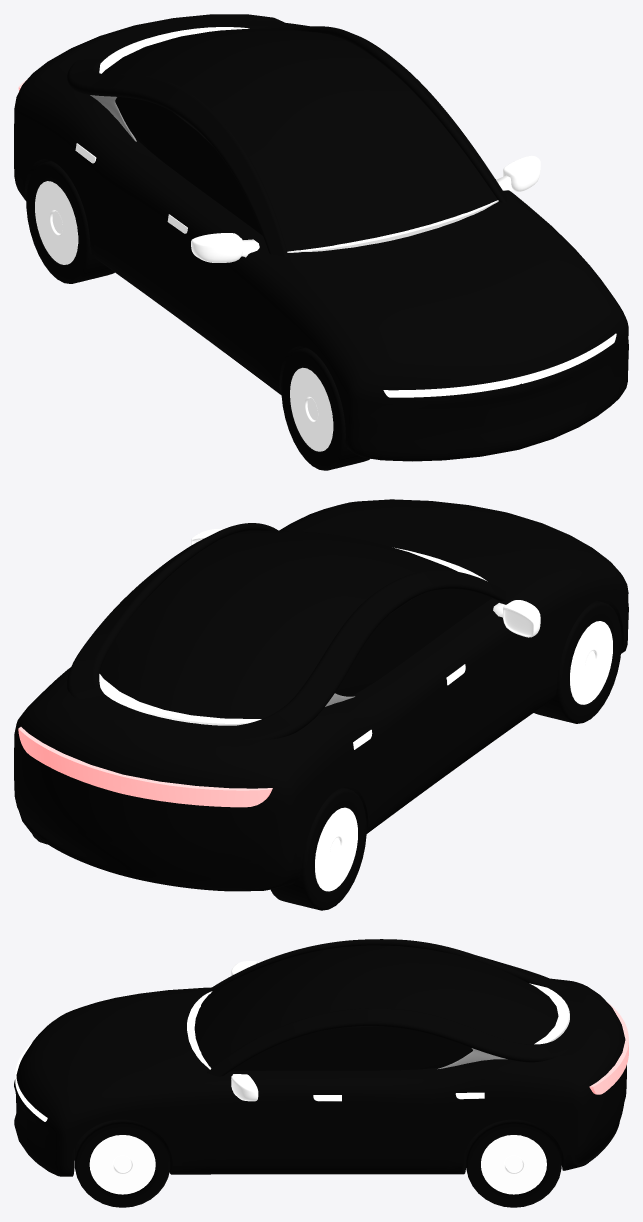
File: uberBlack.dae.glb
3 renders of one model, top to bottom at view 1: azimuth 30°, elevation 25°; view 2: azimuth 150°, elevation 25°; view 3: azimuth 270°, elevation 25°, orthographic. The views are drawn at different scales.
Visible parts, largest first — view 1: Node3, Node8, Node15, Node11, Node9, Node10, Node14, Node2, Node1; view 2: Node3, Node8, Node4, Node6, Node15, Node11, Node14, Node10, Node2, Node9; view 3: Node3, Node8, Node17, Node13, Node12, Node16, Node2, Node6, Node9, Node4, Node7, Node5.
Boxes of the visible parts, x1,y1,x2,y2 form: Node3: (14, 14, 628, 461); Node8: (102, 28, 497, 251); Node15: (26, 161, 114, 283); Node11: (281, 347, 370, 470); Node9: (191, 155, 540, 262); Node10: (290, 367, 333, 451); Node14: (35, 181, 78, 264); Node2: (99, 27, 498, 252); Node1: (383, 333, 616, 397); Node3: (14, 499, 628, 890); Node8: (99, 530, 491, 718); Node4: (35, 817, 255, 891); Node6: (18, 727, 272, 807); Node15: (271, 787, 366, 910); Node11: (534, 601, 621, 723); Node14: (315, 807, 357, 891); Node10: (570, 621, 612, 704); Node2: (99, 547, 487, 725); Node9: (191, 529, 540, 637); Node3: (14, 939, 626, 1176); Node8: (194, 945, 558, 1071); Node17: (466, 1119, 561, 1207); Node13: (75, 1119, 170, 1207); Node12: (89, 1135, 155, 1194); Node16: (481, 1135, 546, 1194); Node2: (187, 983, 569, 1069); Node6: (589, 1001, 628, 1094); Node9: (231, 961, 258, 1101); Node4: (588, 1103, 624, 1161); Node7: (437, 1048, 507, 1069); Node5: (313, 1092, 484, 1101).
Bounding box in the file's own units: 48.58 × 32.93 × 97.84.
